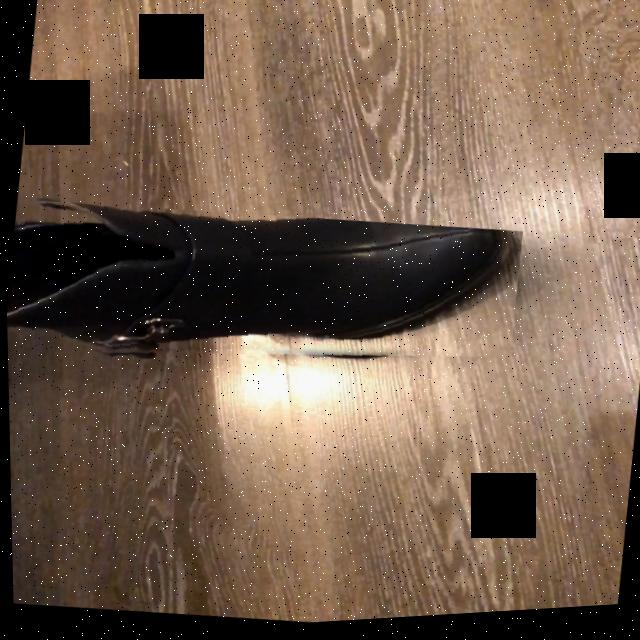shoe: (5, 201, 519, 356)
